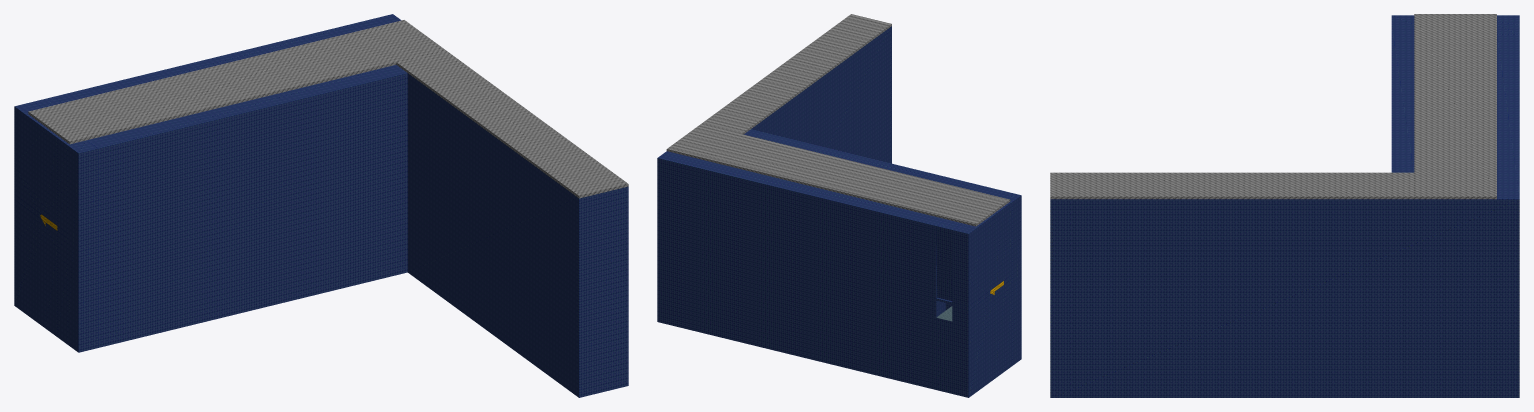
3 views of the same model, side by side, from view 1: azimuth 30°, elevation 25°; view 2: azimuth 150°, elevation 25°; view 3: azimuth 270°, elevation 25° (orthographic). The views are drawn at different scales.
Visible parts, largest first — view 1: entity0_brush5, entity0_brush9, entity0_brush13, entity0_brush11, entity0_brush12, entity0_brush6, entity0_brush4, entity0_brush27, entity0_brush17, entity0_brush24, entity0_brush14, entity0_brush32 (+2 smaller); view 2: entity0_brush4, entity0_brush13, entity0_brush9, entity0_brush12, entity0_brush27, entity0_brush17, entity0_brush5, entity0_brush6, entity0_brush0, entity0_brush7, entity0_brush26, entity0_brush24 (+5 smaller); view 3: entity0_brush8, entity0_brush13, entity0_brush12, entity0_brush4, entity0_brush5, entity0_brush11.
Boxes of the visible parts, <box> form: entity0_brush5: <box>87,65,407,347</box>; entity0_brush9: <box>407,73,577,396</box>; entity0_brush13: <box>28,20,445,144</box>; entity0_brush11: <box>577,186,628,397</box>; entity0_brush12: <box>396,50,628,198</box>; entity0_brush6: <box>67,140,98,352</box>; entity0_brush4: <box>54,14,398,102</box>; entity0_brush27: <box>14,217,45,328</box>; entity0_brush17: <box>14,101,47,213</box>; entity0_brush24: <box>45,227,57,336</box>; entity0_brush14: <box>45,129,59,209</box>; entity0_brush32: <box>57,250,67,343</box>; entity0_brush4: <box>659,151,945,389</box>; entity0_brush13: <box>666,124,1010,226</box>; entity0_brush9: <box>751,27,890,163</box>; entity0_brush12: <box>701,14,891,134</box>; entity0_brush27: <box>952,294,994,397</box>; entity0_brush17: <box>952,214,994,291</box>; entity0_brush5: <box>744,129,1004,310</box>; entity0_brush6: <box>998,191,1021,365</box>; entity0_brush0: <box>936,306,952,393</box>; entity0_brush7: <box>936,219,961,300</box>; entity0_brush26: <box>952,296,988,346</box>; entity0_brush24: <box>994,295,1003,378</box>; entity0_brush8: <box>1053,198,1519,397</box>; entity0_brush13: <box>1414,14,1496,199</box>; entity0_brush12: <box>1050,172,1414,199</box>; entity0_brush4: <box>1497,34,1519,198</box>; entity0_brush5: <box>1391,25,1414,172</box>; entity0_brush11: <box>1050,199,1052,397</box>.
Bounding box in the file's own units: 2448 × 1248 × 2640.
